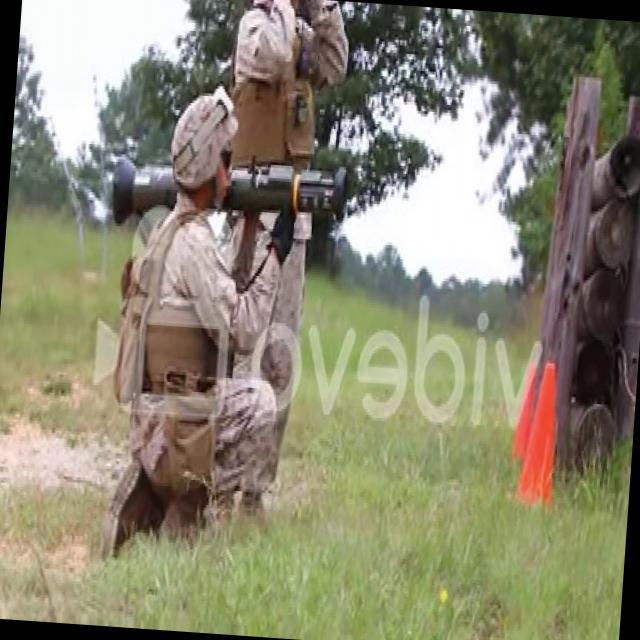rocket: (112, 155, 346, 235)
